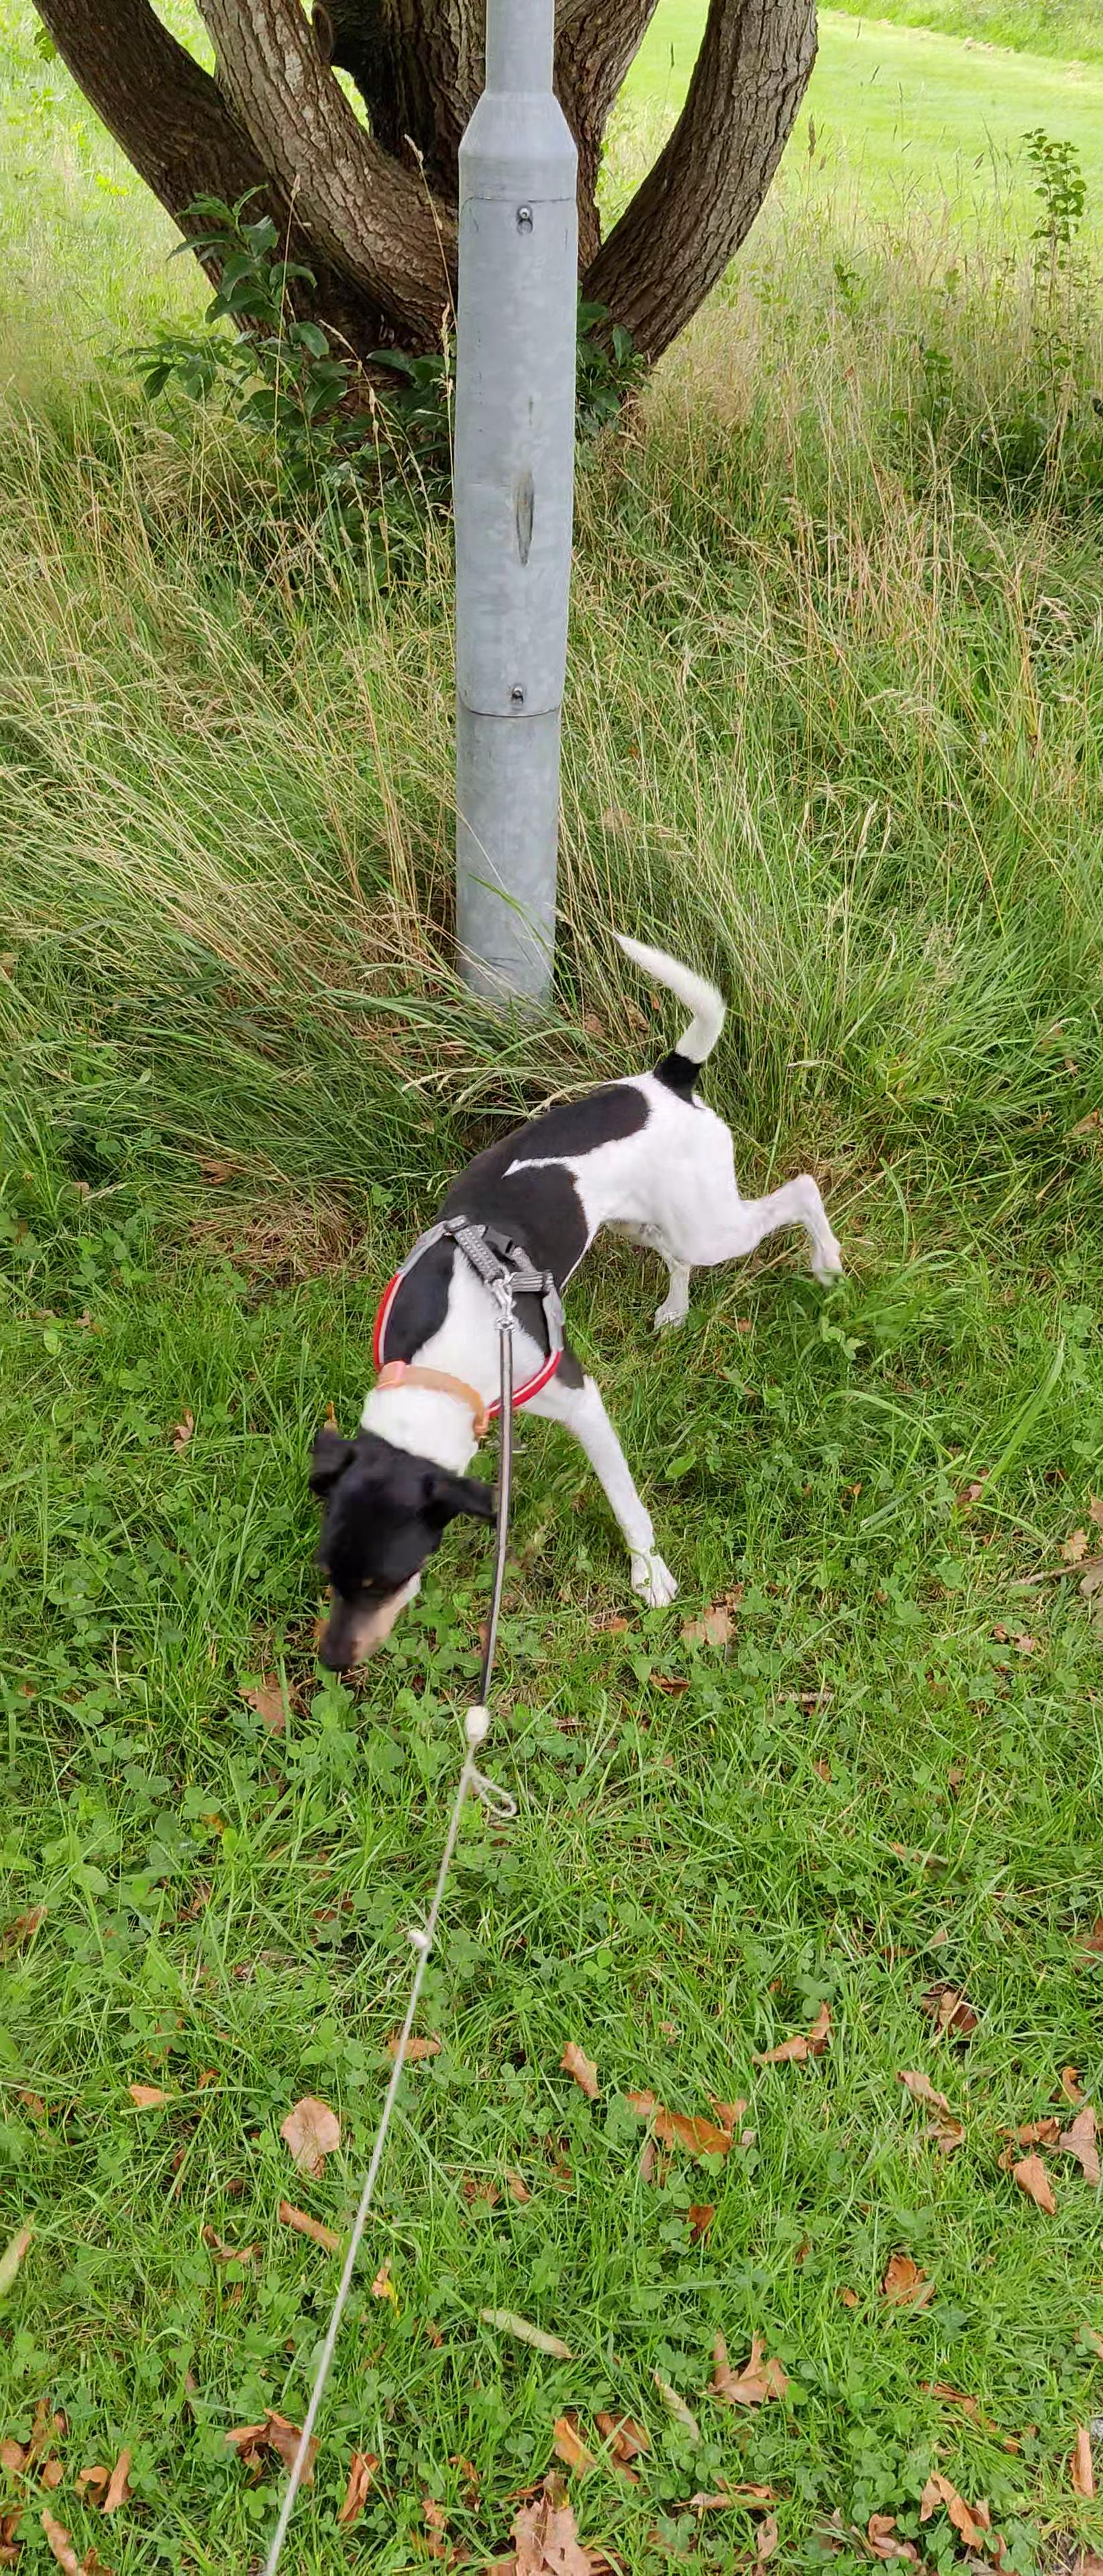Dog: (302, 923, 851, 1672)
